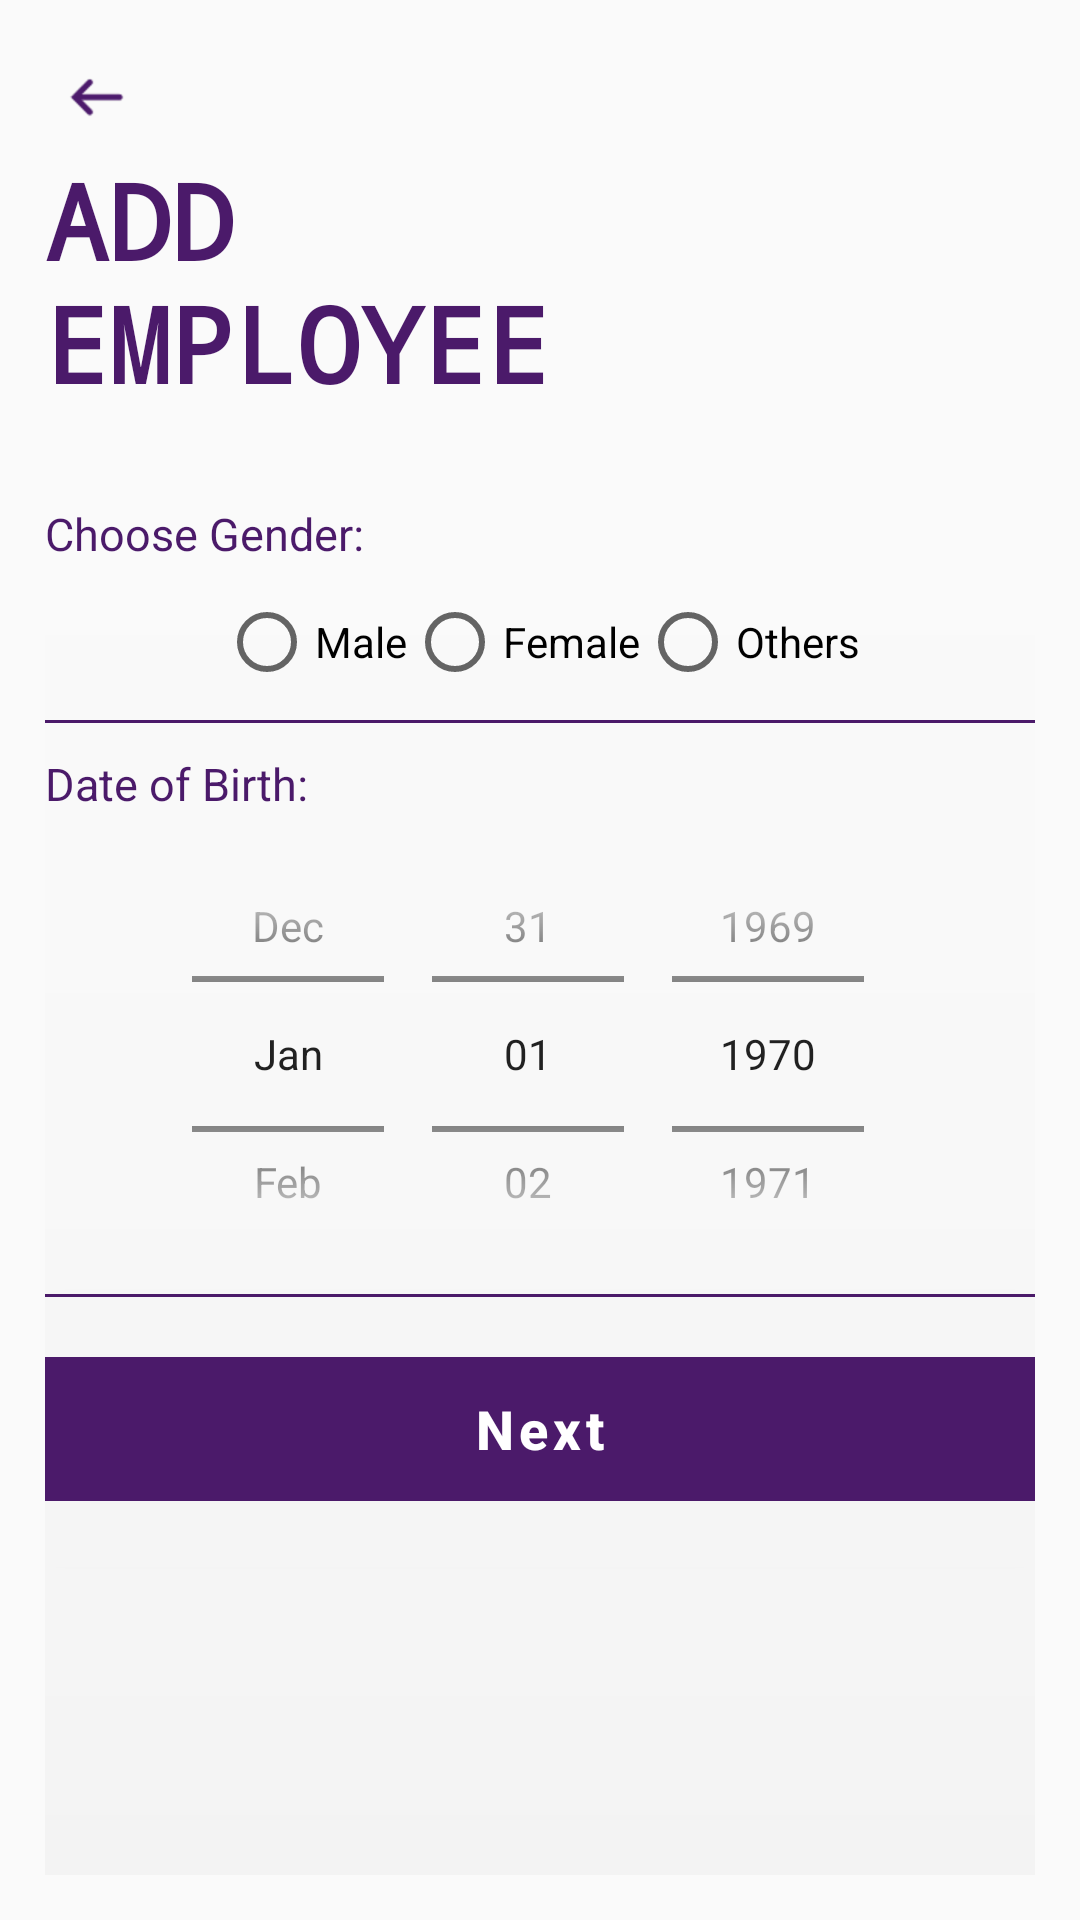

Icons on this 1080×1920 Android screen, each with the point to tap as point (x, y):
left: point (96, 97)
